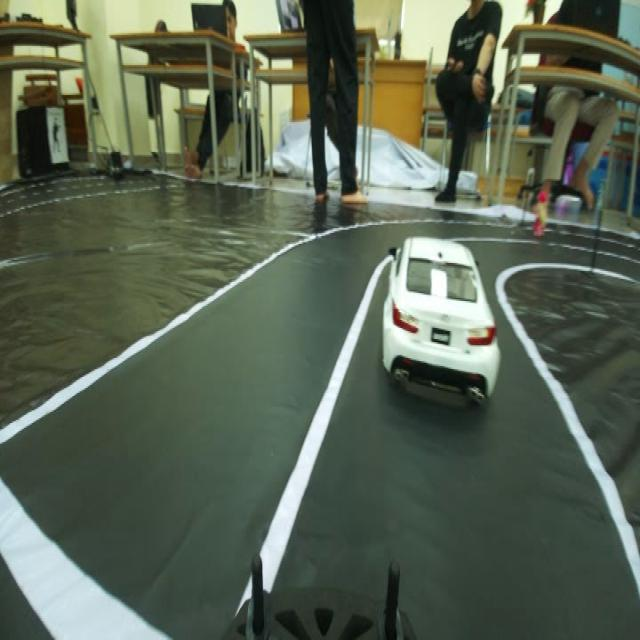car: (383, 206, 505, 421)
